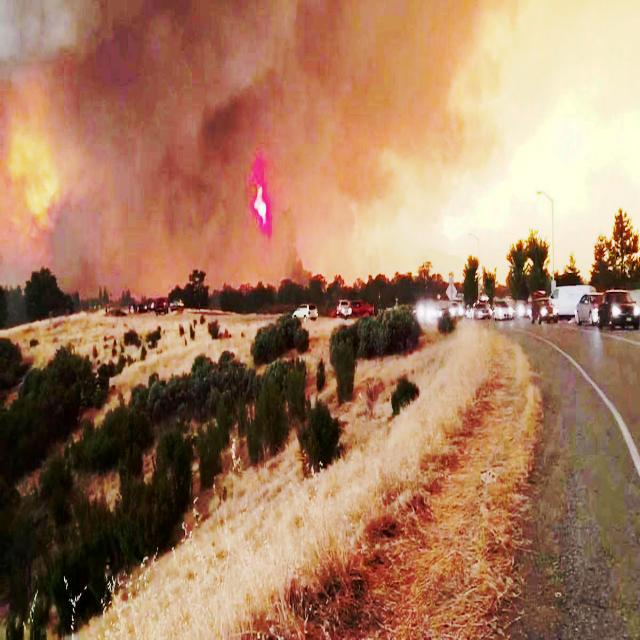asap: (1, 1, 567, 301)
